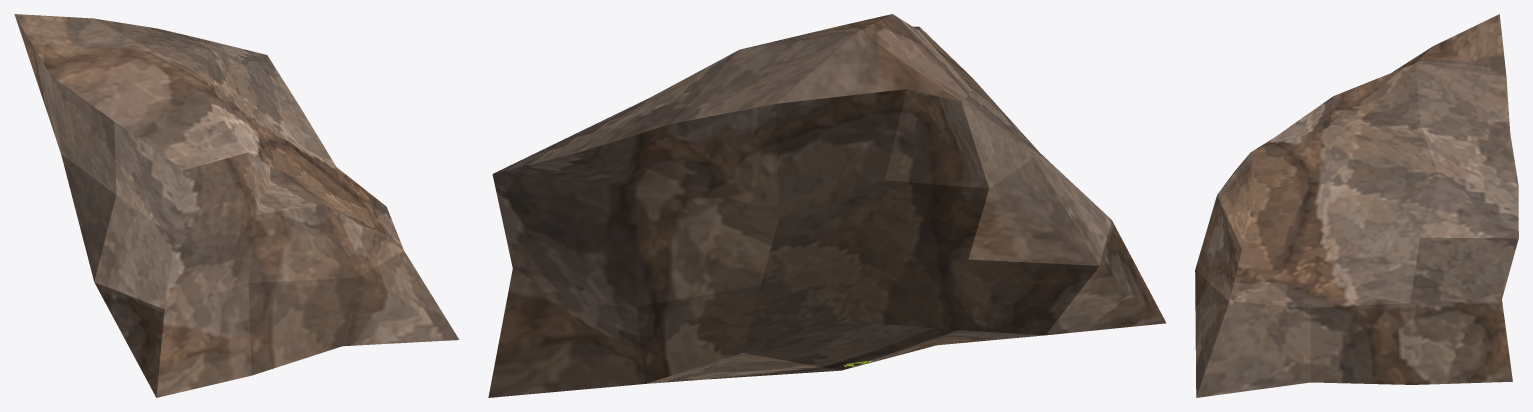
The model's file is rock-l-blocky.glb.
3 renders of one model, left to right at view 1: azimuth 30°, elevation 25°; view 2: azimuth 150°, elevation 25°; view 3: azimuth 270°, elevation 25°, orthographic. The views are drawn at different scales.
Parts seen in each view (by area): view 1: rock-l-blocky; view 2: rock-l-blocky; view 3: rock-l-blocky.
Boxes of the visible parts, box(x1,y1,x2,y2) form: rock-l-blocky: box(14, 14, 459, 397); rock-l-blocky: box(488, 14, 1166, 397); rock-l-blocky: box(1195, 14, 1518, 397).
Bounding box in the file's own units: 3.72 × 3.2 × 3.67.
Materials: 2 (2 with a texture image).
